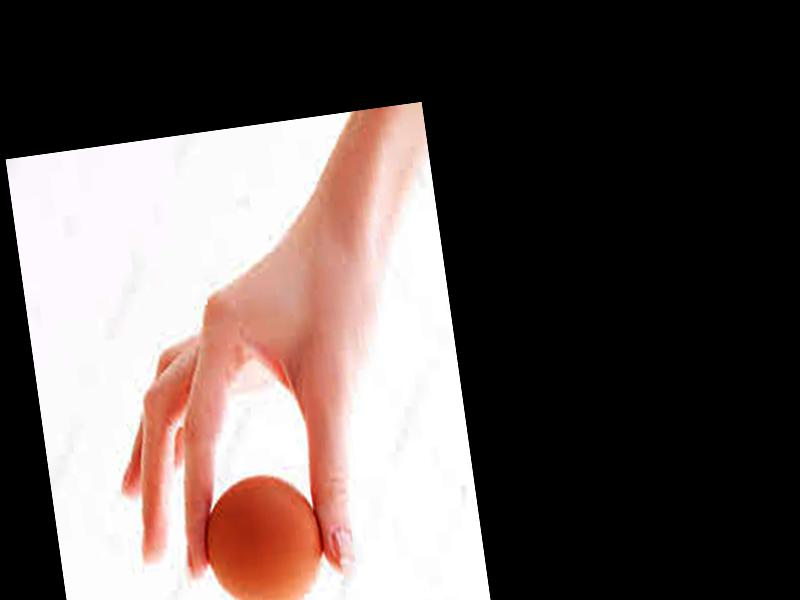Eggs: (196, 471, 331, 600)
